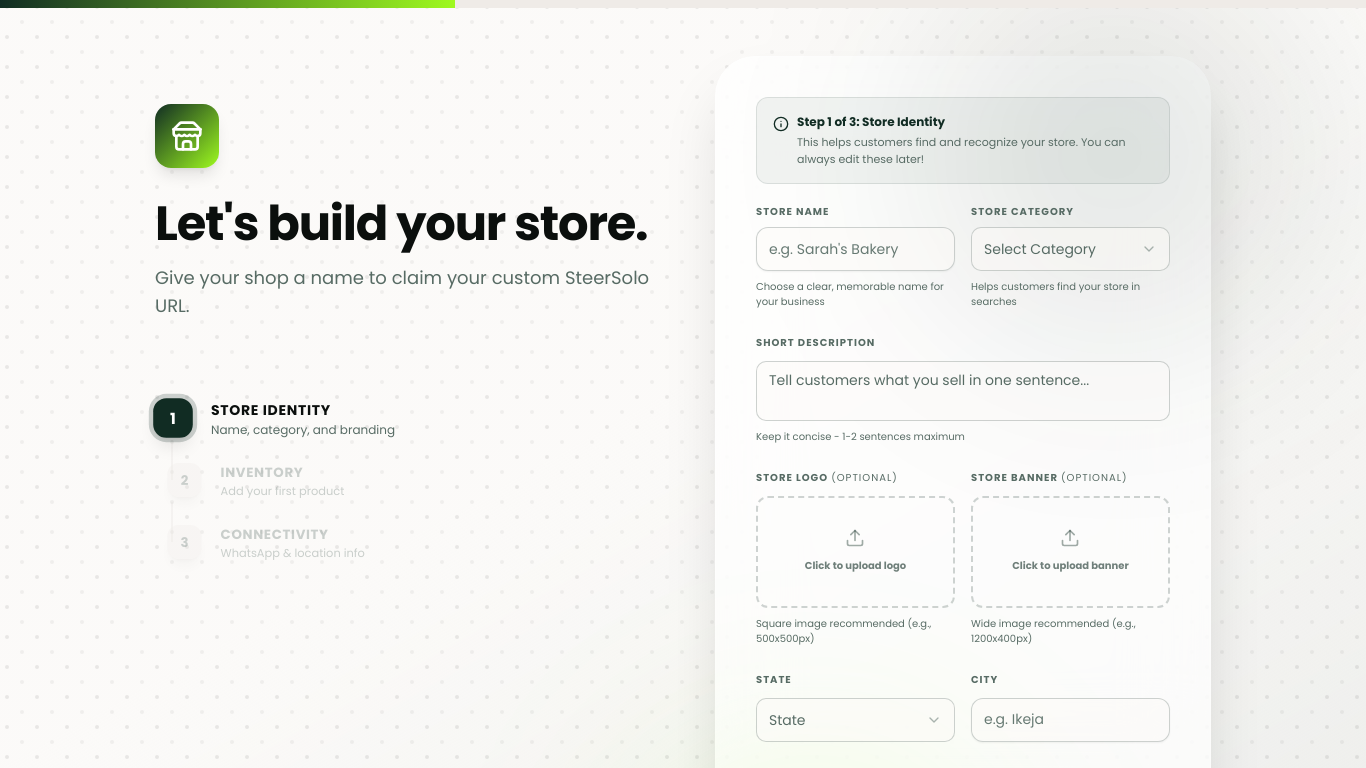
Test: VendorSetupWizard › shows URL preview based on shop name
The width and height of the screenshot is (1366, 768).
Type "Sarah's Bakery" into the field with placeholder "e.g. Sarah's Bakery" at (856, 249), box top-left (756, 227), bottom-right (955, 271)
(page scrolled)
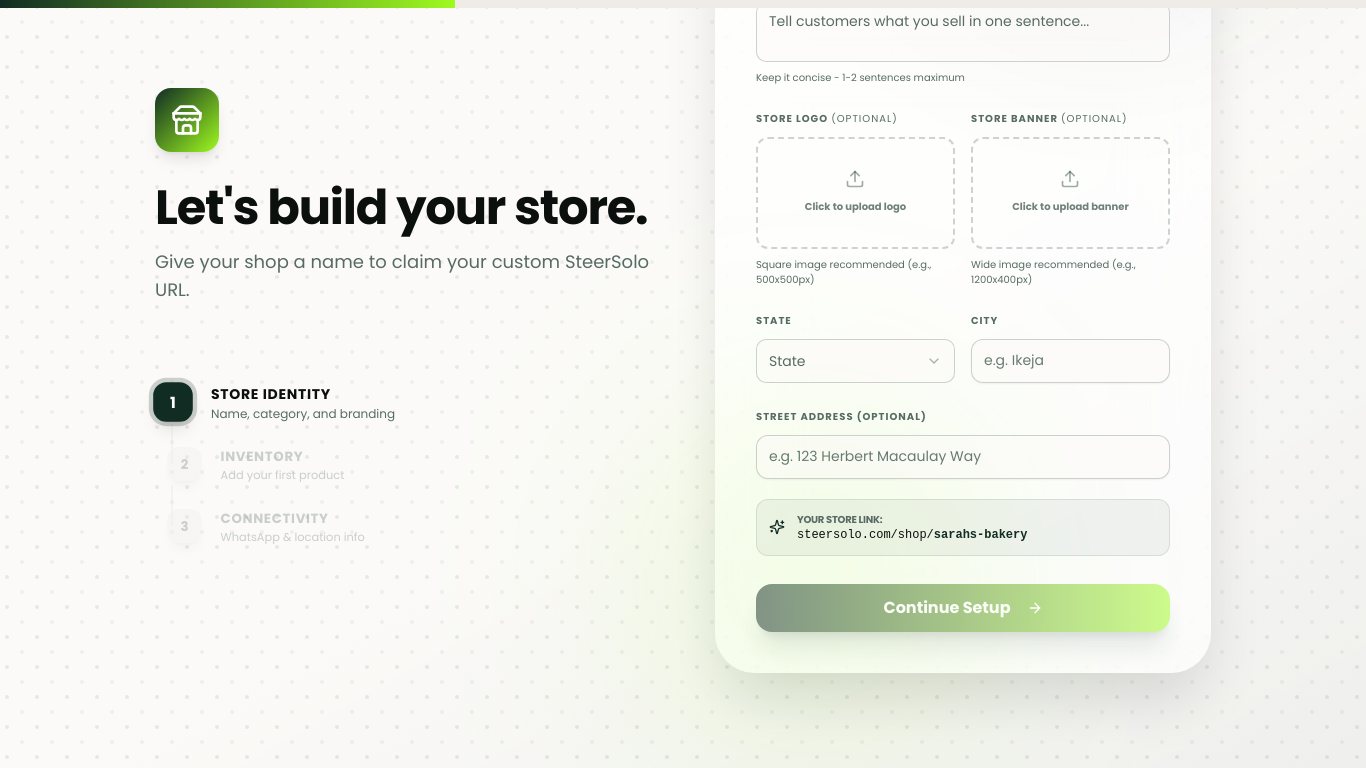
Expected: the text "sarahs-bakery" is shown, top-left (934, 528), bottom-right (1027, 542)
